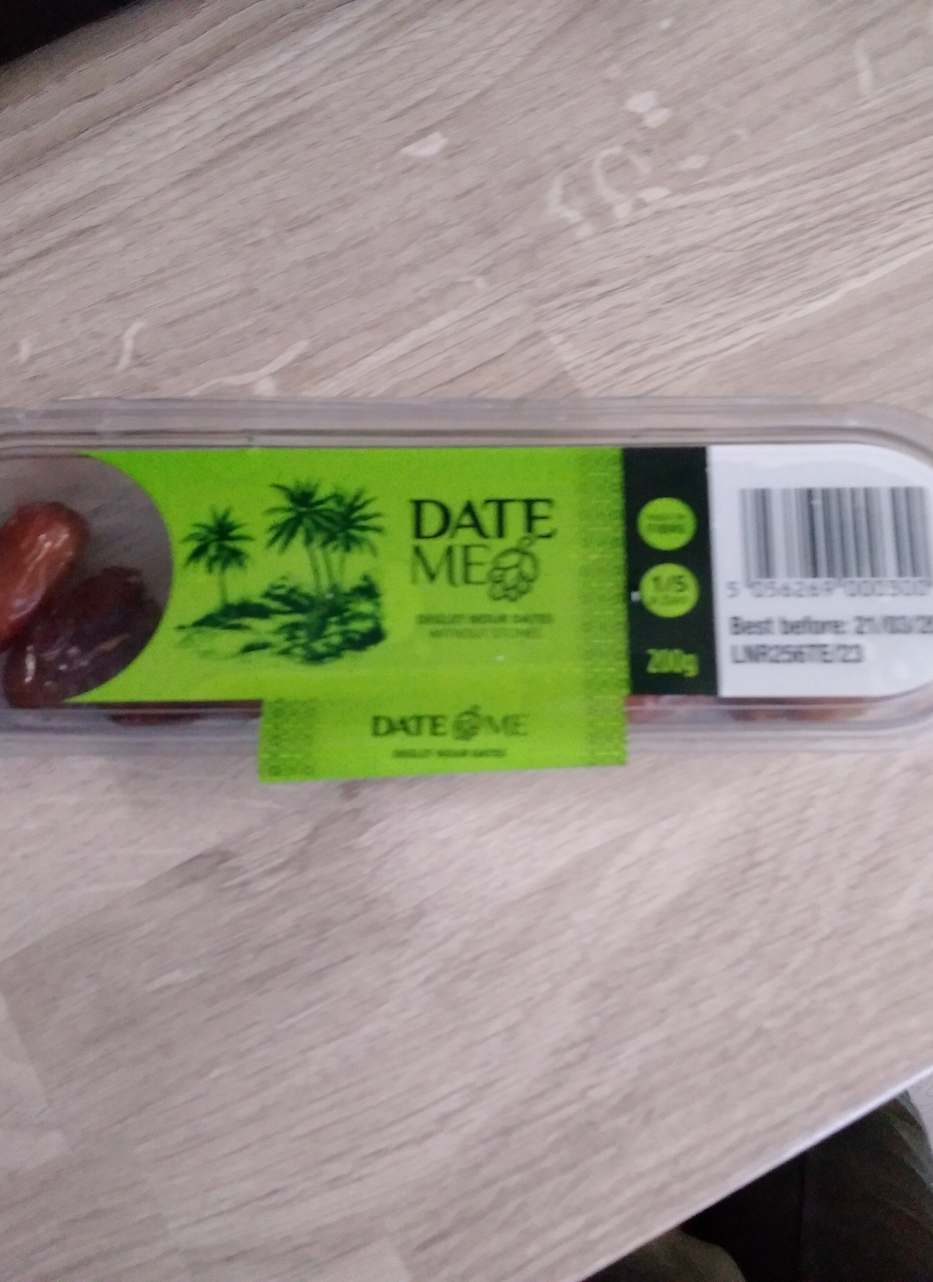Deglet Nour Dates: (47, 64, 886, 1218)
